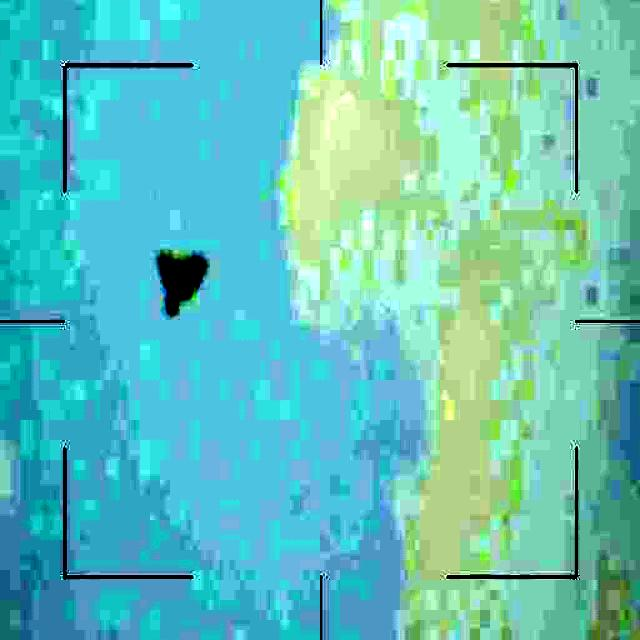bird: (156, 248, 212, 314)
